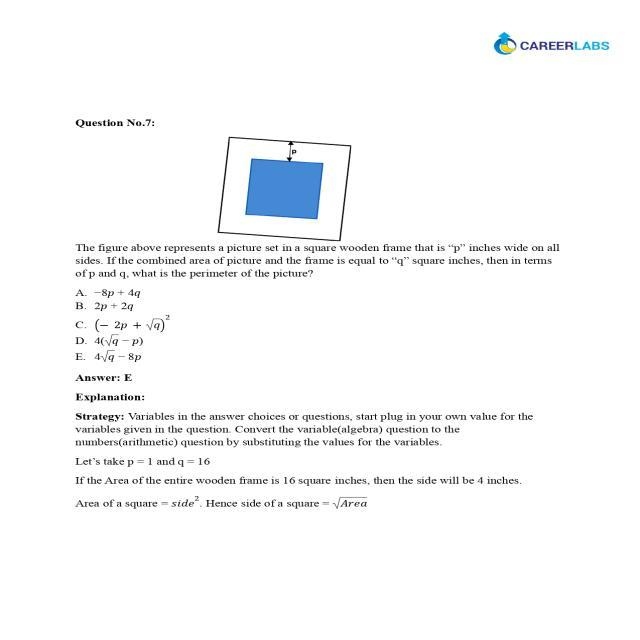Answer_Block: (66, 284, 567, 368)
Description: (66, 368, 567, 514)
Question_Answer_Block: (66, 110, 567, 368)
Question_Block: (66, 110, 567, 284)
Question_Paper_Area: (66, 110, 567, 514)
